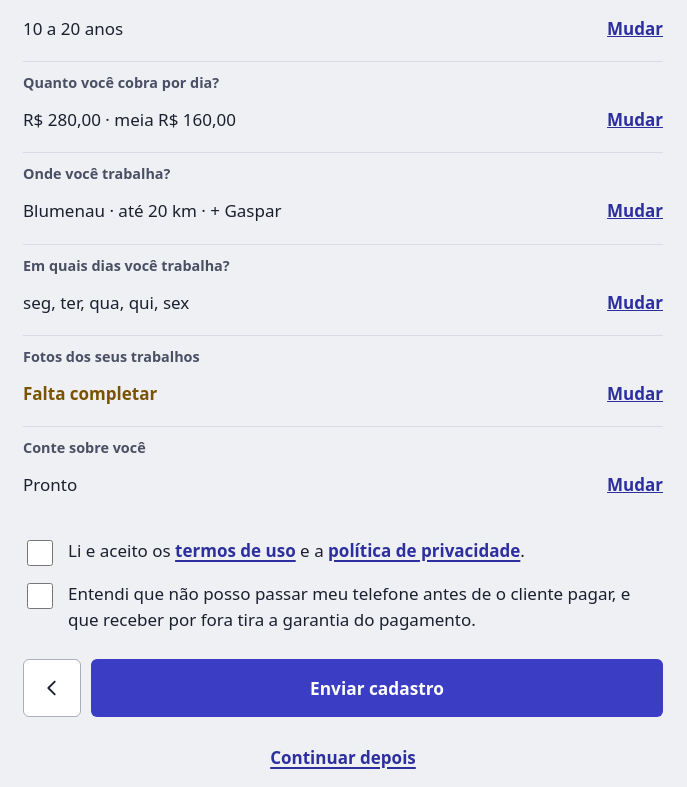
Test case: etapa 11: Pix, revisão e envio › etapa incompleta aparece como "Falta completar" e "Mudar" vai até ela
(page scrolled)
Expected: the text "Falta completar" is shown, [23,382,157,405]
Click the button named "Mudar: Fotos dos seus trabalhos" at (635, 394), box [607,372,663,416]
(page scrolled)
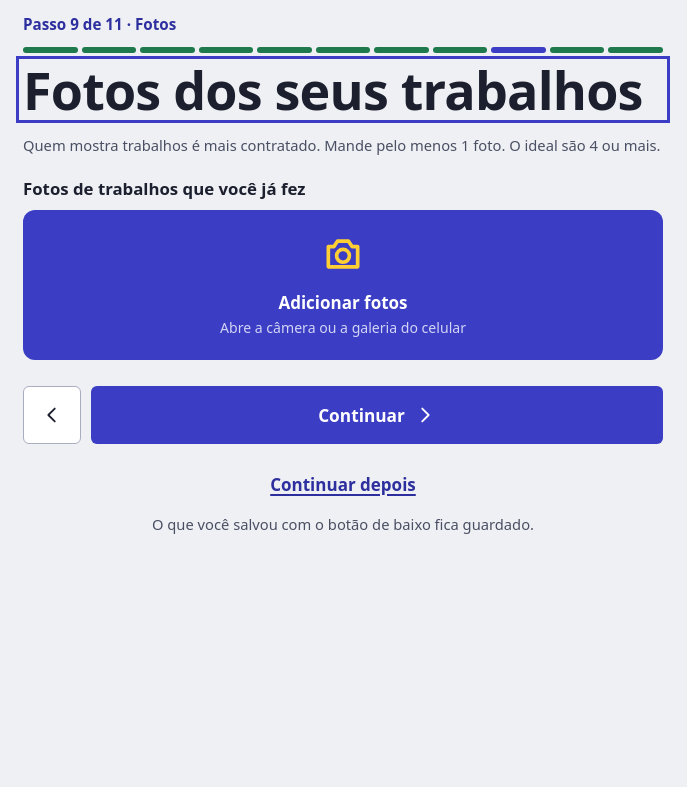
Result: the heading "Fotos dos seus trabalhos" is shown at [23,63,663,116]
